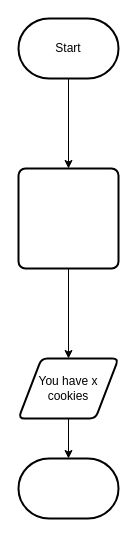
Some shapes in this 136 by 536 pixel diagram are drawn without their labels. Each missing label, with the box of its shape:
Stop: (17, 457, 119, 519)
total cookies +1: (17, 167, 119, 269)
